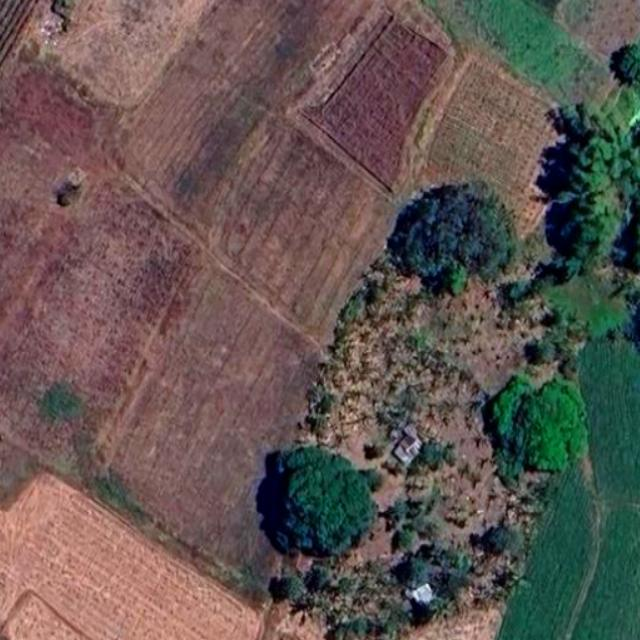Tree: (552, 104, 640, 286), (393, 179, 512, 286), (268, 446, 374, 563), (488, 370, 588, 483), (613, 41, 640, 86), (274, 574, 307, 603), (486, 526, 516, 554), (534, 336, 558, 365), (404, 558, 427, 587), (394, 526, 417, 552), (312, 564, 335, 590), (420, 440, 441, 466), (389, 498, 410, 523)
